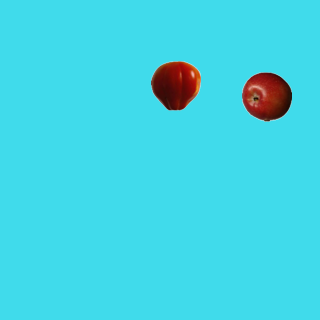Apple Braeburn: (241, 71, 291, 121)
Tomato 1: (150, 60, 200, 110)
